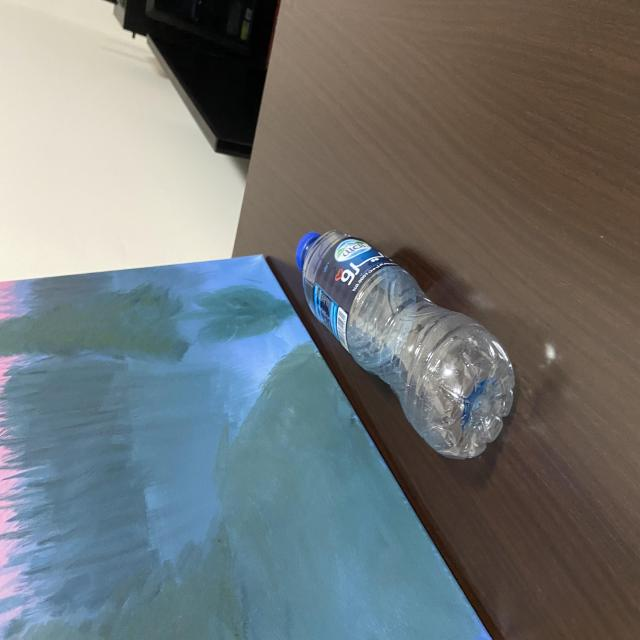bottle: (284, 219, 526, 471)
